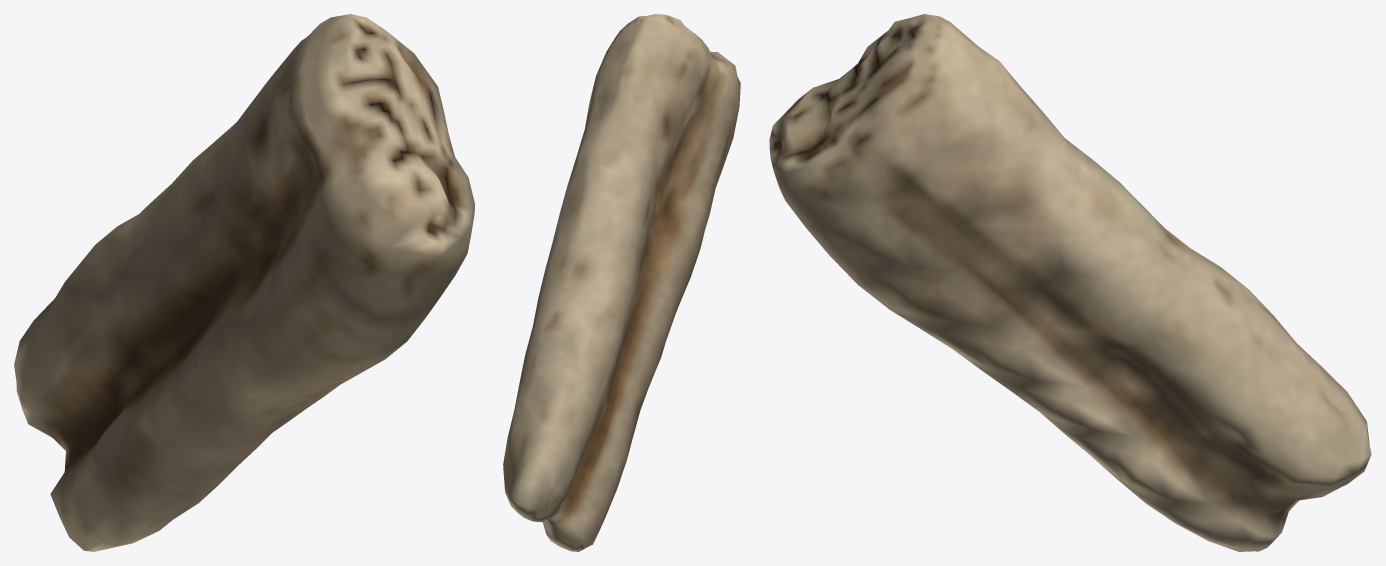
The model's file is Mandibular_Premolar1.glb.
3 renders of one model, left to right at view 1: azimuth 30°, elevation 25°; view 2: azimuth 150°, elevation 25°; view 3: azimuth 270°, elevation 25°, orthographic. The views are drawn at different scales.
Visible parts, largest first — view 1: Mandibular_Premolar1.glb; view 2: Mandibular_Premolar1.glb; view 3: Mandibular_Premolar1.glb.
Boxes of the visible parts, <box> form: Mandibular_Premolar1.glb: <box>14,14,474,551</box>; Mandibular_Premolar1.glb: <box>503,14,740,551</box>; Mandibular_Premolar1.glb: <box>769,14,1371,551</box>.
Size of the model in its own units: 0.0203 by 0.0672 by 0.0656.
Materials: 1 (1 with a texture image).
